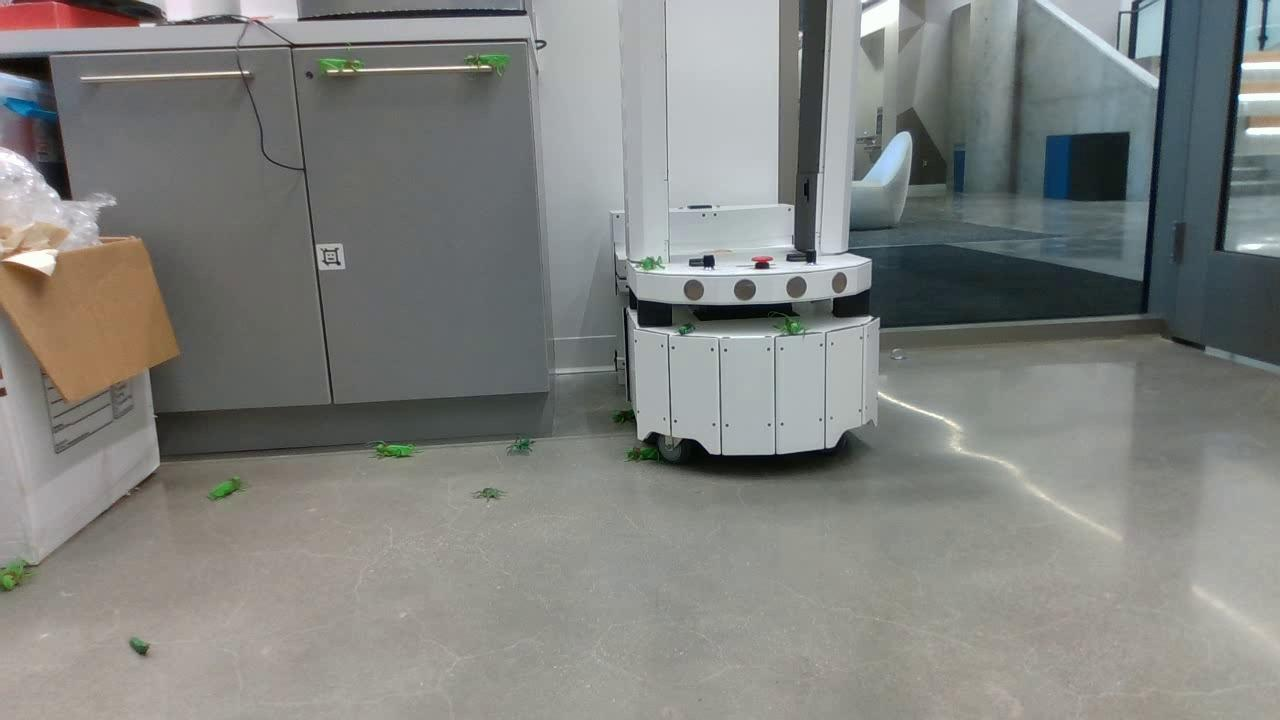grasshopper: (316, 54, 363, 76), (203, 477, 242, 498), (1, 558, 24, 593), (375, 442, 418, 460), (467, 55, 508, 72), (632, 254, 662, 276), (622, 446, 660, 462), (614, 406, 639, 426), (776, 318, 804, 334)
